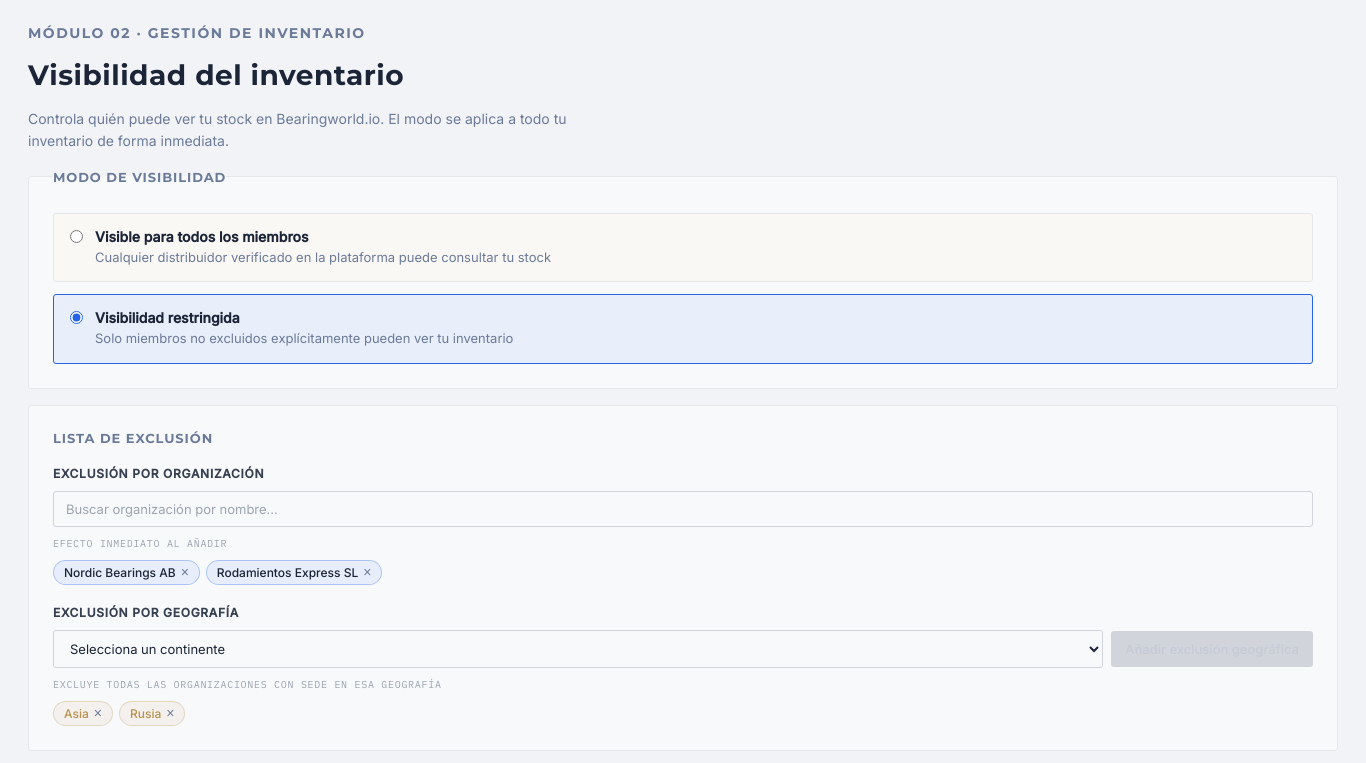
Scenario: Visibility · el panel de exclusión según el modo › cambiar a «Visible para todos» desactiva el panel (se conserva la lista) y avisa
Expected: the radio button labelled "Visibilidad restringida" is shown, [70,311,83,324]
Click the radio button labelled "Visible para todos los miembros". click: [76, 236]
box: [70,230,83,243]
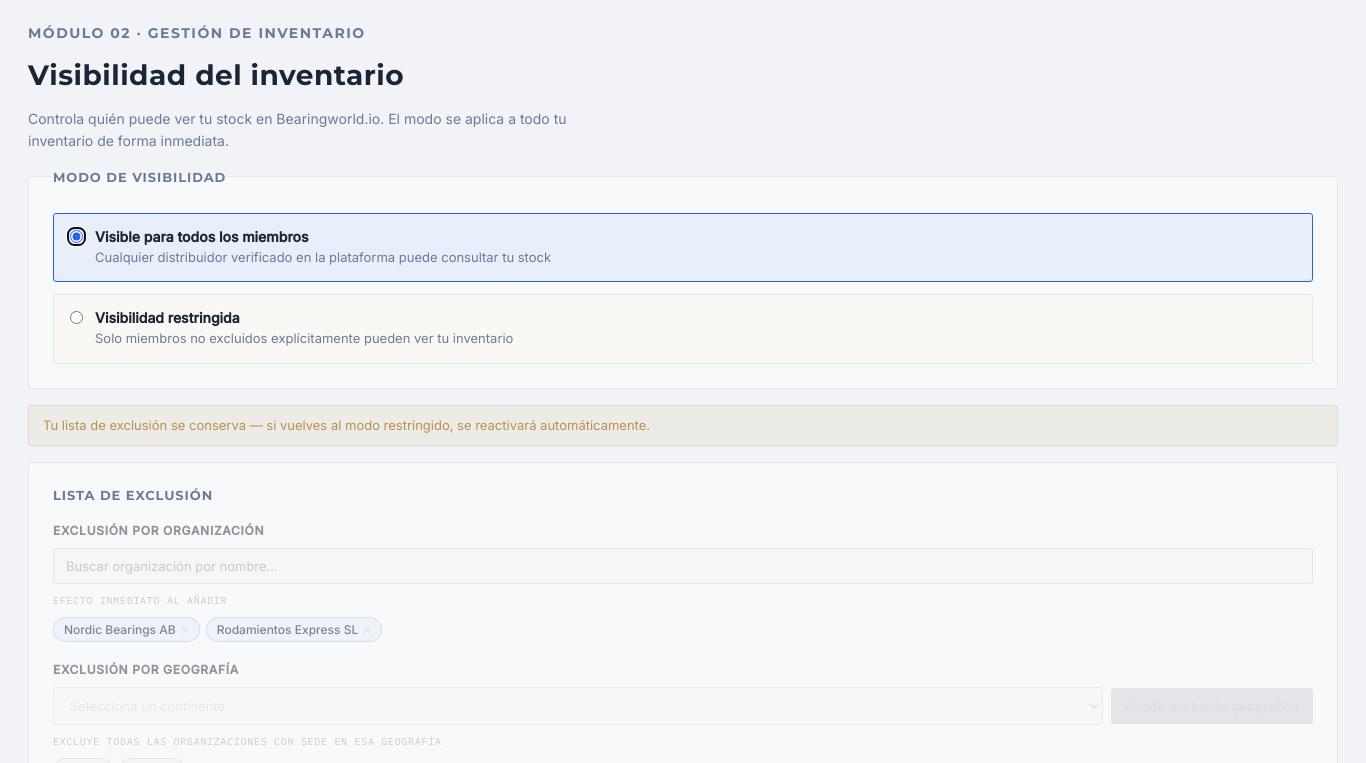
Expected: the text "Nordic Bearings AB" is shown, [64,622,176,637]
Expected: the text "Tu lista de exclusión se conserva — si vuelves al modo restringido, se reactivará automáticamente." is shown, [43,417,650,433]
